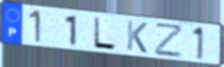1: (64, 15, 81, 46), (191, 26, 205, 61), (27, 10, 41, 44)
K: (126, 19, 149, 55)
L: (93, 16, 118, 52)
Z: (154, 23, 185, 59)
